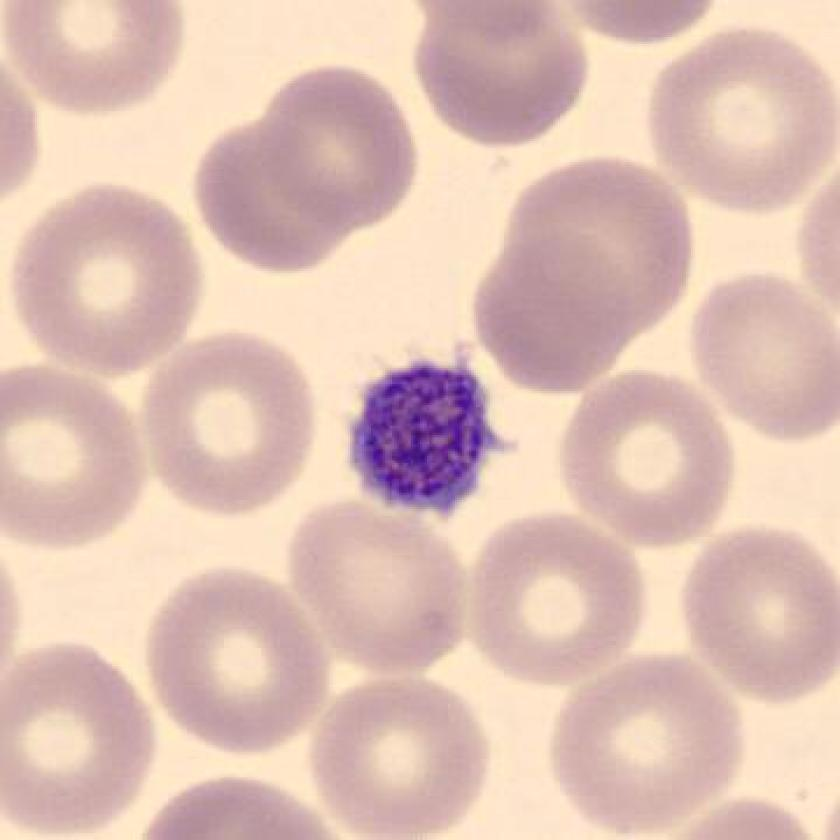platelets: (332, 341, 512, 524)
